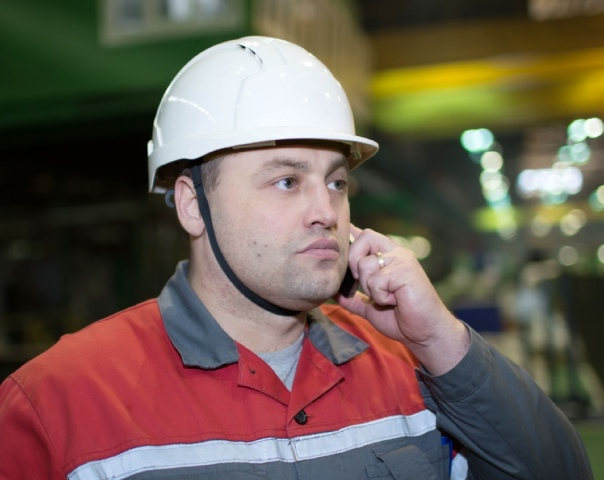person: (1, 36, 593, 480)
